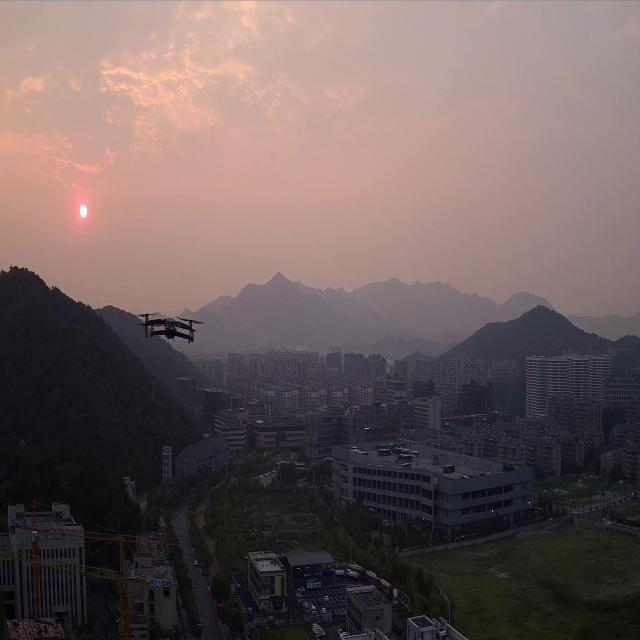UAV: (138, 310, 202, 345)
